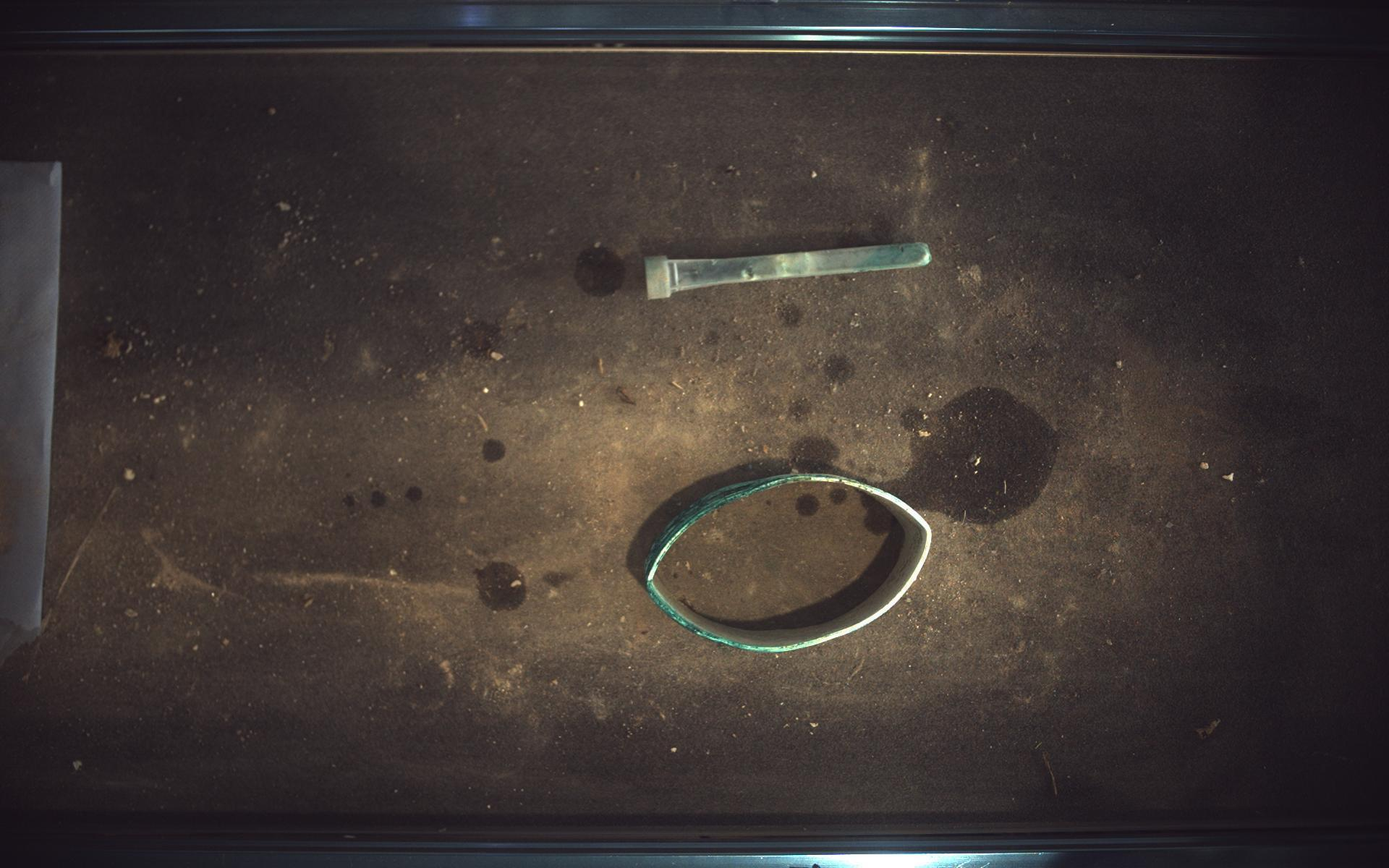plastic: (646, 473, 933, 654), (645, 242, 933, 299)
